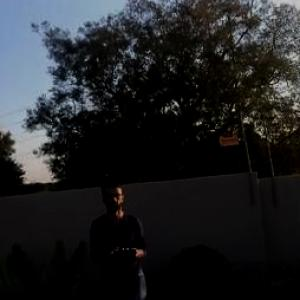follow: (85, 172, 155, 299)
